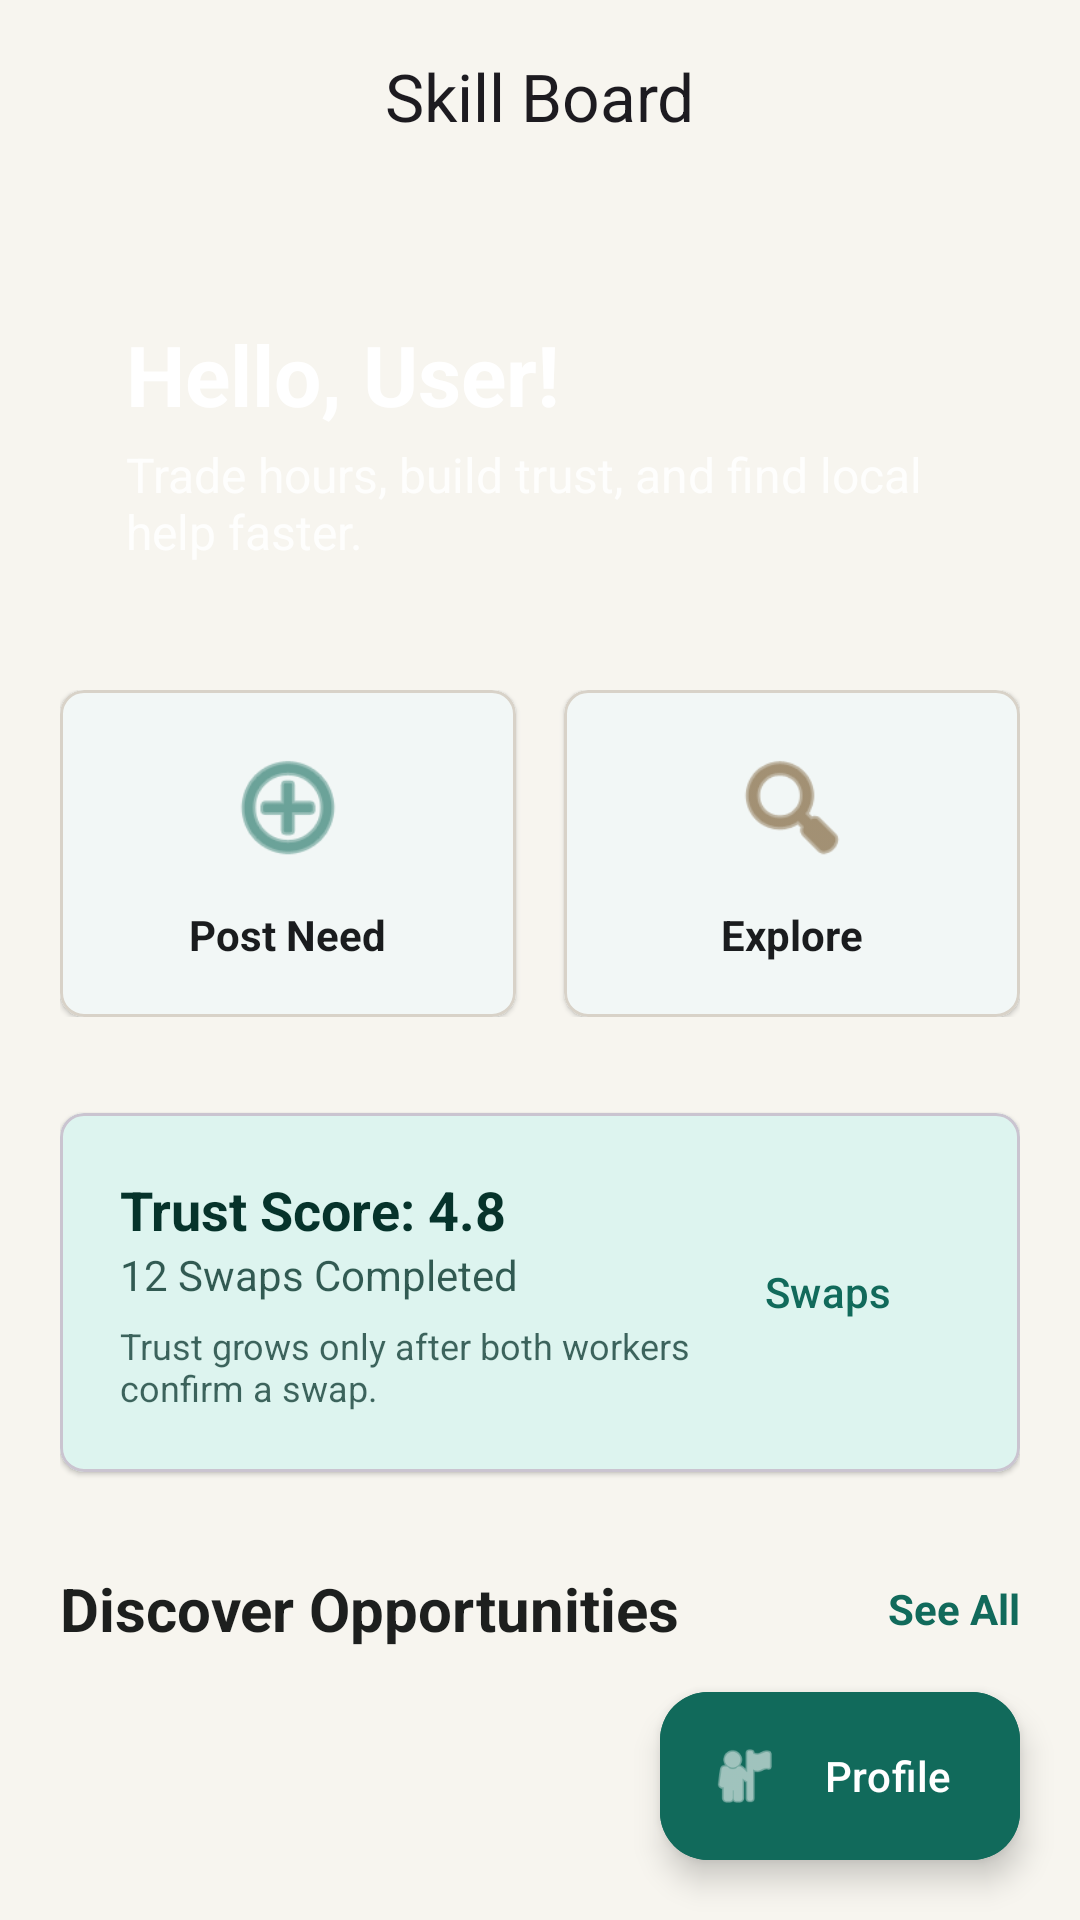

Locate icon controls on the screen. Image size 1080w x 1920h, boxes as [left=x1, top=y1, right=x2, bottom=y2].
add: [left=241, top=761, right=335, bottom=854]
search: [left=745, top=761, right=839, bottom=854]
